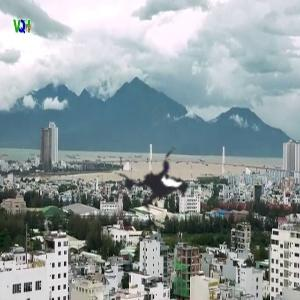drone: (85, 119, 229, 263)
